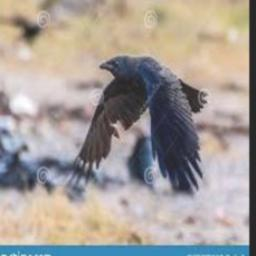Crow: (69, 54, 208, 196)
